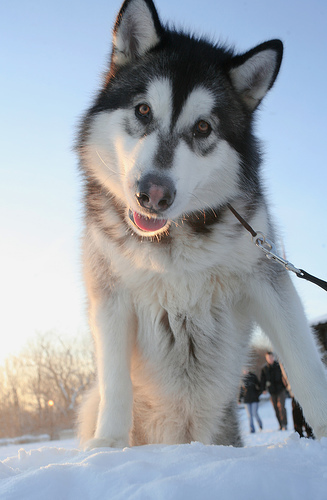dog: (70, 0, 325, 445)
